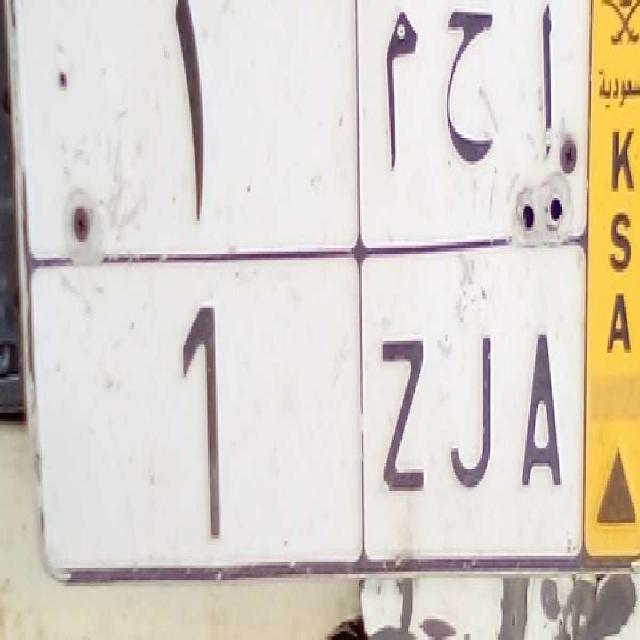license_plate: (24, 234, 585, 572)
